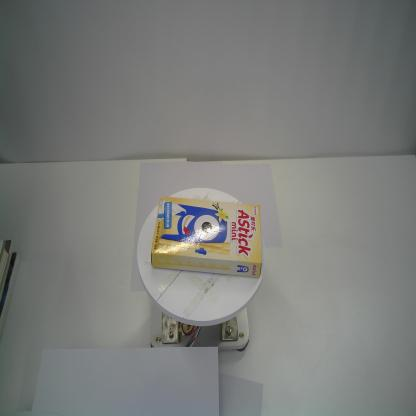Dessert: (150, 194, 265, 280)
